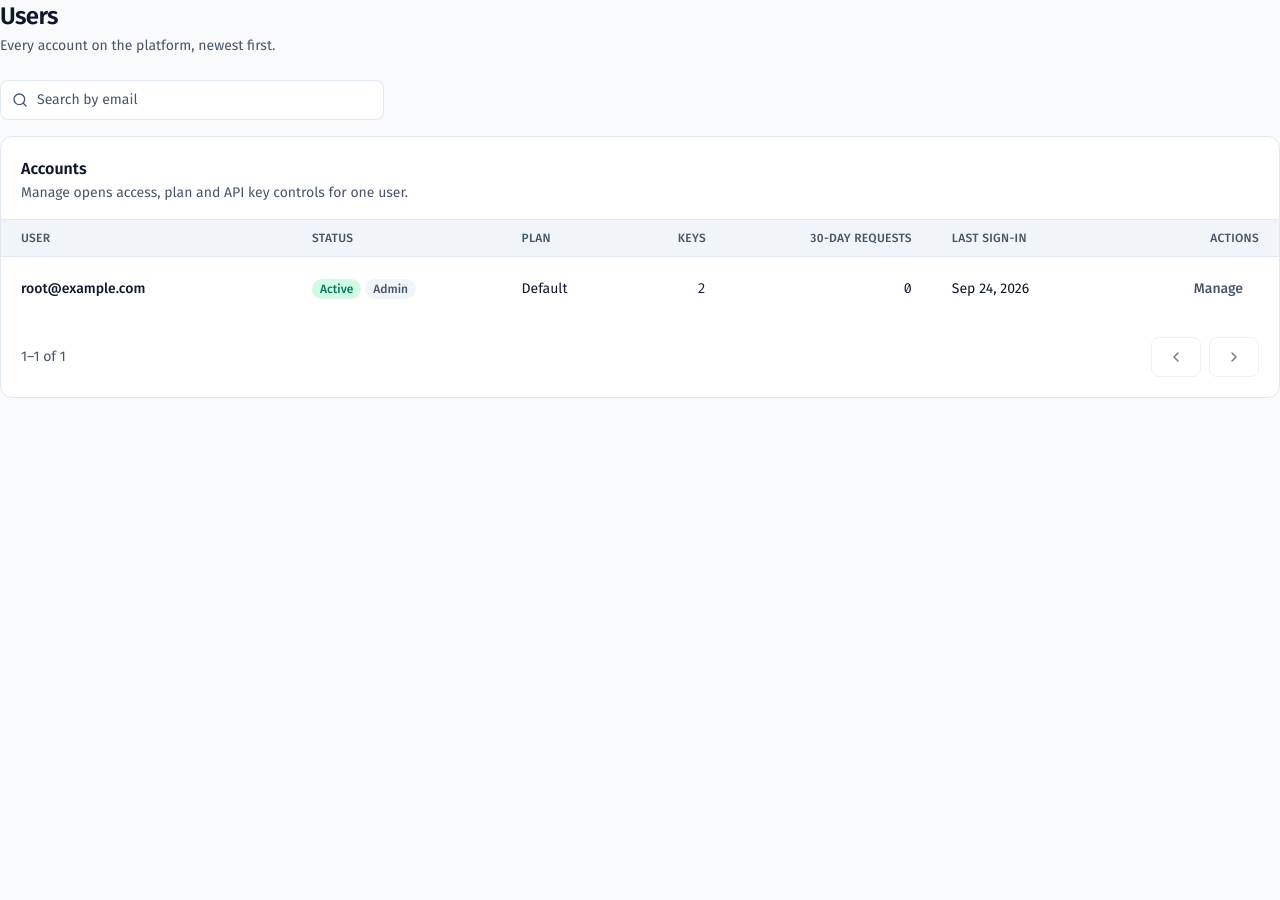
it: Users page › does not let admins lock themselves out
Click the button with aria-label "Manage root@example.com". click: coordinates (1218, 289)
box: [1178, 269, 1259, 309]
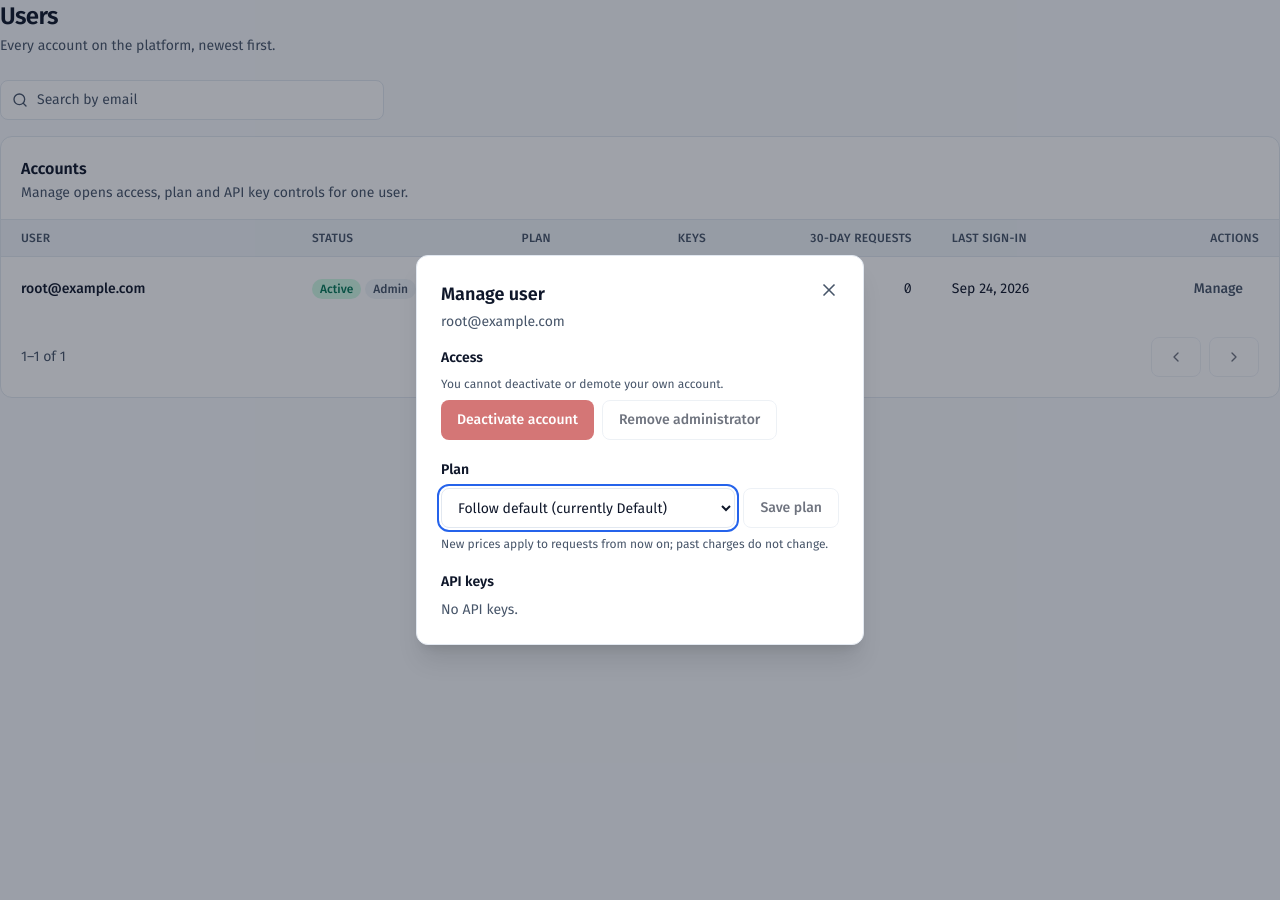
Expected: the button "Deactivate account" is disabled, [441, 400, 594, 440]
Expected: the button "Remove administrator" is disabled, [602, 400, 777, 440]
Expected: the text "You cannot deactivate or demote your own account." is shown, [441, 377, 724, 391]
